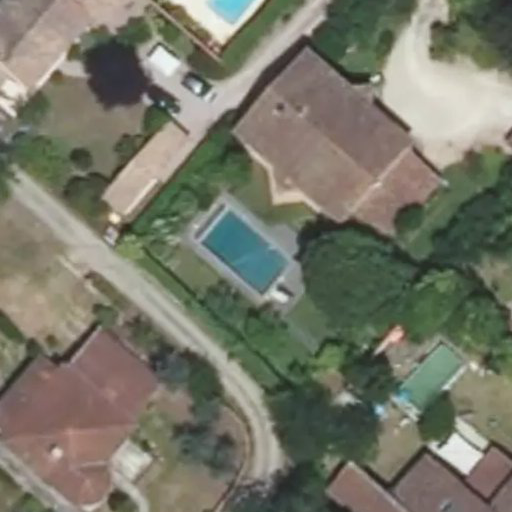pool: (205, 229, 306, 254)
